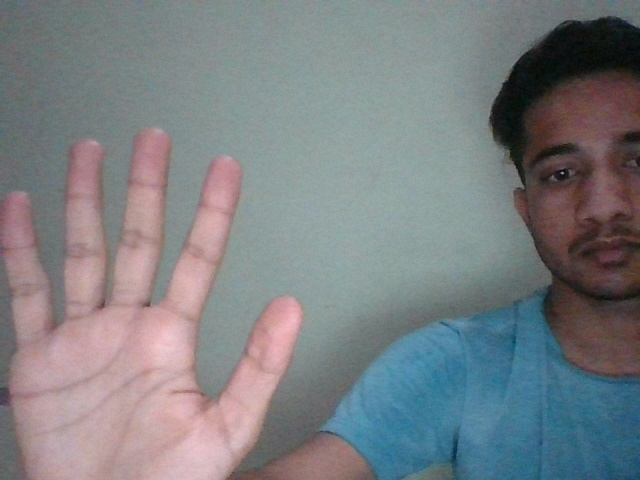Hello: (2, 126, 303, 480)
